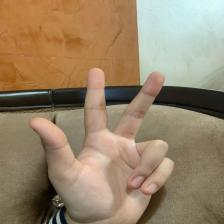three: (24, 63, 181, 221)
